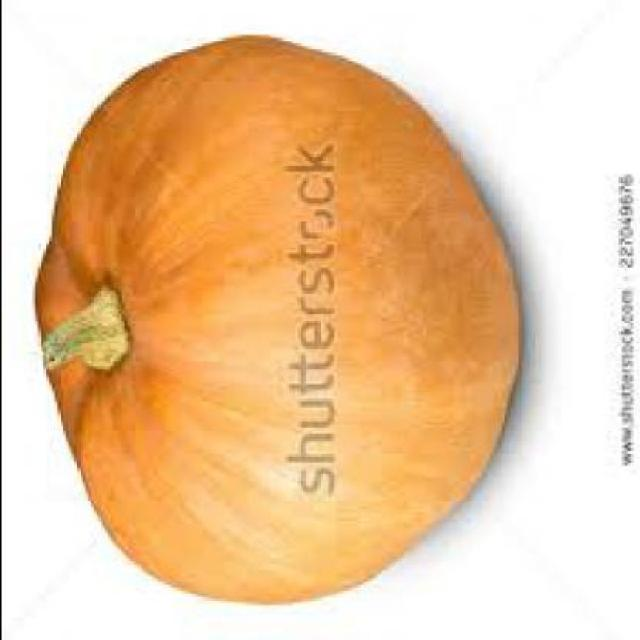BIODEGRADABLE: (31, 41, 517, 605)
